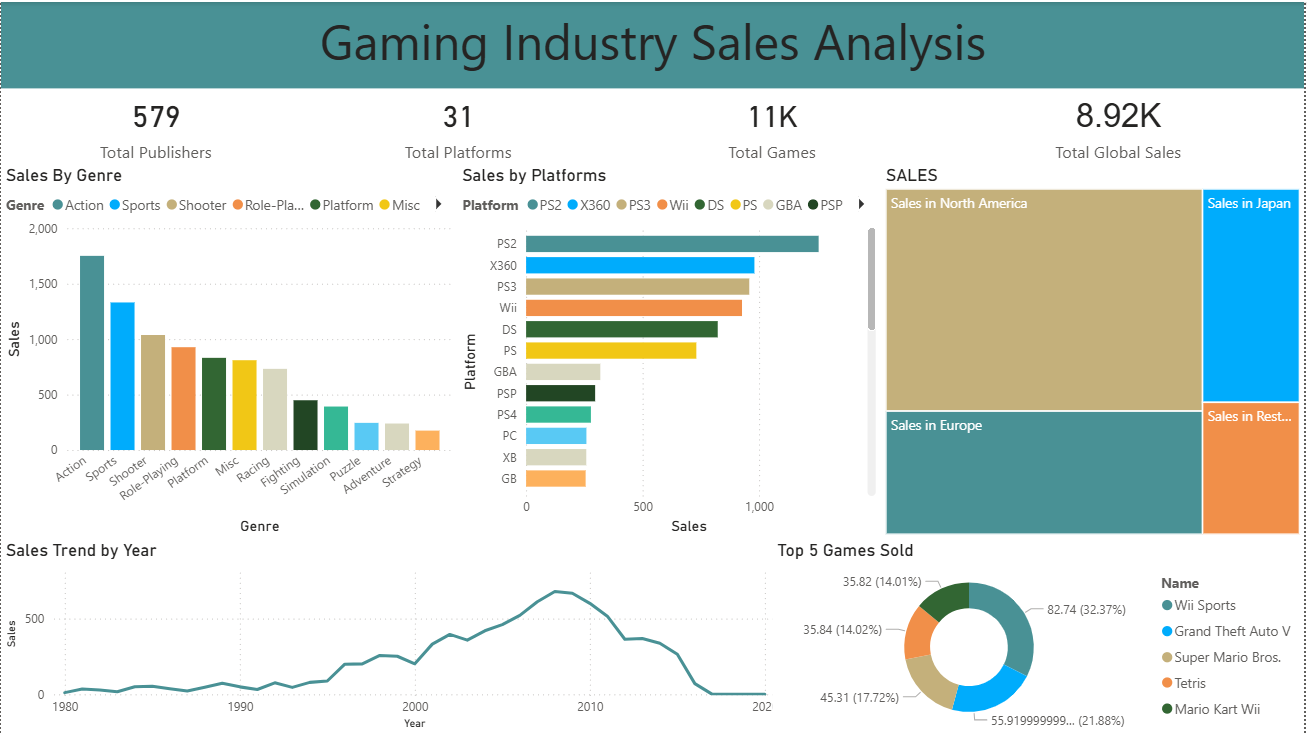

This screenshot's page, from the dashboard's own definition file:
{"tool":"powerbi","page":{"name":"Page 1","canvas":[1280,720],"ordinal":0},"visuals":[{"type":"columnChart","title":"Sales By Genre","fields":{"Category":["vgsales.Genre"],"Y":["Sum(vgsales.Global_Sales)"],"Series":["vgsales.Genre"]},"box":[0,160,448,368],"z":0},{"type":"card","fields":{"Values":["vgsales.Toal_Global_Sales"]},"box":[914.1,84.7,365.6,74.8],"z":1000},{"type":"card","fields":{"Values":["vgsales.Number_of_Games"]},"box":[600,84.7,314.1,74.8],"z":2000},{"type":"card","fields":{"Values":["vgsales.Average_Sales"]},"box":[298.2,84.7,301.8,74.8],"z":3000},{"type":"card","fields":{"Values":["vgsales.Total_publisher"]},"box":[0,84.7,304.3,74.8],"z":4000},{"type":"barChart","title":"Sales by Platforms","fields":{"Category":["vgsales.Platform"],"Y":["Sum(vgsales.Global_Sales)"],"Series":["vgsales.Platform"]},"box":[447.9,159.5,416,368.1],"z":5000},{"type":"lineChart","title":"Sales Trend by Year","fields":{"Y":["Sum(vgsales.Global_Sales)"],"Category":["vgsales.Year"]},"box":[0,528,768,192],"z":6000},{"type":"donutChart","title":"Top 5 Games Sold","fields":{"Category":["vgsales.Name"],"Y":["Sum(vgsales.Global_Sales)"]},"box":[757.1,527.6,522.7,192.6],"z":7000},{"type":"treemap","title":"SALES","fields":{"Values":["Sum(vgsales.EU_Sales)","Sum(vgsales.JP_Sales)","Sum(vgsales.NA_Sales)","Sum(vgsales.Other_Sales)"]},"box":[863.8,159.5,416,368.1],"z":8000},{"type":"textbox","box":[0,0,1280.3,85.1],"z":9000}]}

Visuals, with their boxes in screenshot pixels (x1, y1, x2, y2), scaled from the page's 1280x720 canvas onto the 1307x735 screenshot:
"Sales By Genre" columnChart: 0/163/457/539
card - vgsales.Toal_Global_Sales: 933/86/1306/163
card - vgsales.Number_of_Games: 613/86/933/163
card - vgsales.Average_Sales: 304/86/613/163
card - vgsales.Total_publisher: 0/86/311/163
"Sales by Platforms" barChart: 457/163/882/539
"Sales Trend by Year" lineChart: 0/539/784/734
"Top 5 Games Sold" donutChart: 773/539/1306/734
"SALES" treemap: 882/163/1306/539
textbox: 0/0/1306/87
